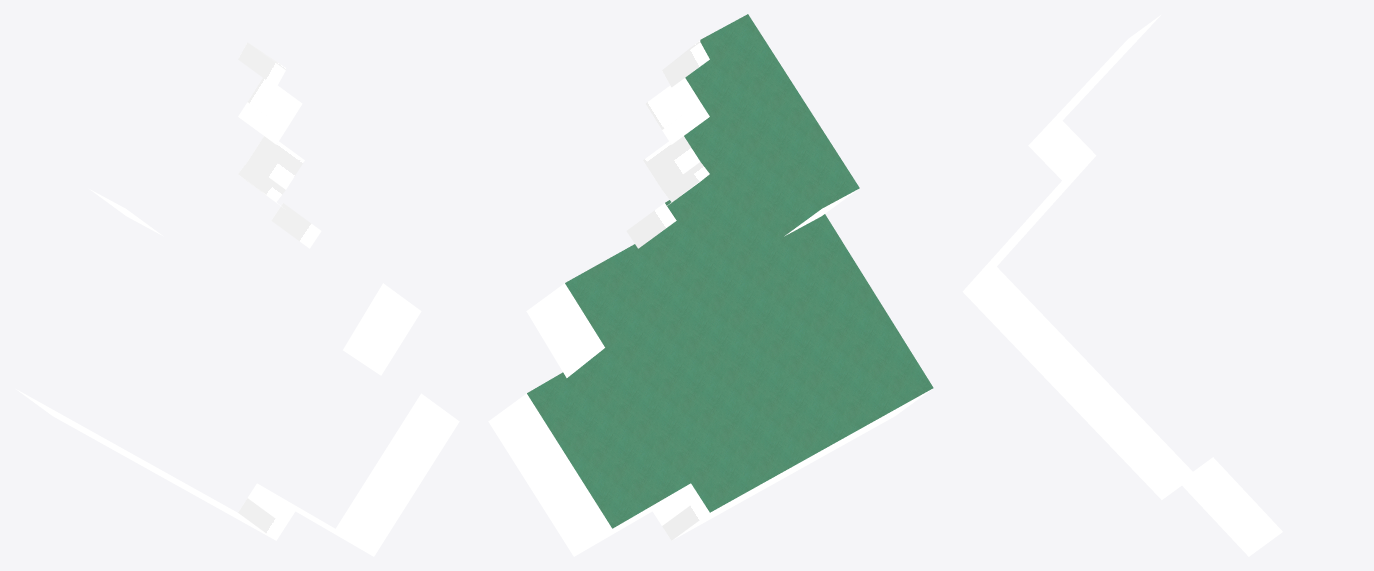
The picture shows the model from 3 angles, left to right: view 1: azimuth 30°, elevation 25°; view 2: azimuth 150°, elevation 25°; view 3: azimuth 330°, elevation 25°; orthographic projection. The views are drawn at different scales.
Parts seen in each view (by area): view 1: BuildingMaster_1979193892784461803000000000_0; view 2: BuildingMaster_1979193892784461803000000000_1, BuildingMaster_1979193892784461803000000000_0; view 3: BuildingMaster_1979193892784461803000000000_0.
Boxes of the visible parts, bbox=[...] form: BuildingMaster_1979193892784461803000000000_0: bbox=[16, 42, 459, 556]; BuildingMaster_1979193892784461803000000000_1: bbox=[527, 14, 933, 528]; BuildingMaster_1979193892784461803000000000_0: bbox=[488, 40, 931, 556]; BuildingMaster_1979193892784461803000000000_0: bbox=[962, 15, 1282, 556].
Bounding box in the file's own units: 42.75 × 55 × 7.
